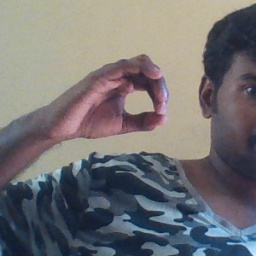O: (47, 52, 171, 141)
